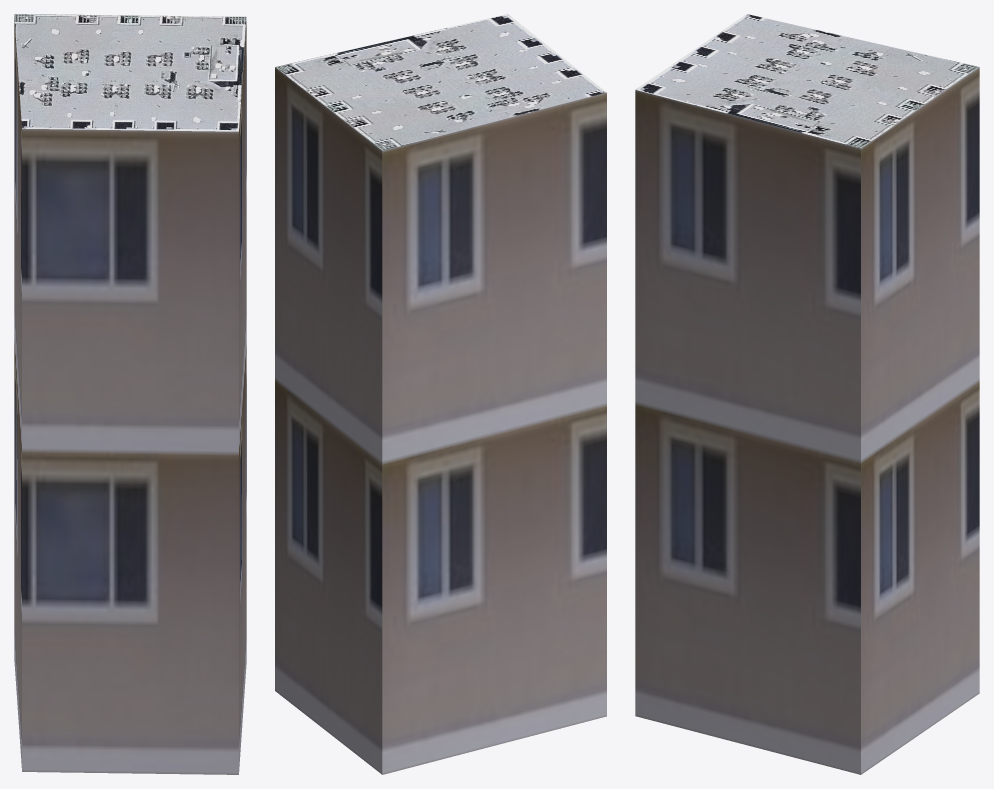
Rendered from ResTex__3382.fbx.
3 views of the same model, side by side, from view 1: azimuth 30°, elevation 25°; view 2: azimuth 150°, elevation 25°; view 3: azimuth 270°, elevation 25° (orthographic). The views are drawn at different scales.
Parts seen in each view (by area): view 1: CityEngineMaterial_21_m, CityEngineMaterial_4_m; view 2: CityEngineMaterial_21_m, CityEngineMaterial_4_m; view 3: CityEngineMaterial_21_m, CityEngineMaterial_4_m.
Boxes of the visible parts, x1=… form: CityEngineMaterial_21_m: x1=14, y1=18, x2=246, y2=774; CityEngineMaterial_4_m: x1=14, y1=14, x2=246, y2=131; CityEngineMaterial_21_m: x1=275, y1=67, x2=606, y2=774; CityEngineMaterial_4_m: x1=275, y1=14, x2=606, y2=150; CityEngineMaterial_21_m: x1=635, y1=67, x2=979, y2=774; CityEngineMaterial_4_m: x1=635, y1=14, x2=979, y2=148.
Size of the model in its own units: 2.77 by 6 by 2.99.
2 materials, 2 textured.
